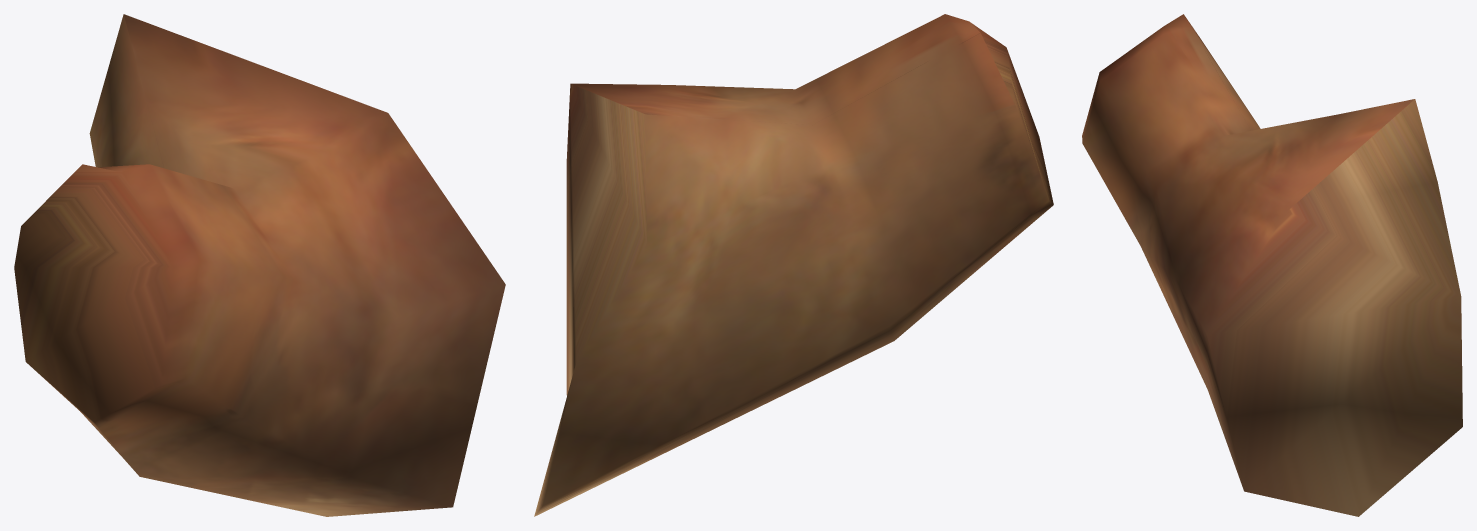
Rendered from thumb_02_l.dae.
3 renders of one model, left to right at view 1: azimuth 30°, elevation 25°; view 2: azimuth 150°, elevation 25°; view 3: azimuth 270°, elevation 25°, orthographic. The views are drawn at different scales.
Visible parts, largest first — view 1: thumb_2_l; view 2: thumb_2_l; view 3: thumb_2_l.
Part boxes in pixels (bbox=[...]): thumb_2_l: bbox=[14, 14, 505, 516]; thumb_2_l: bbox=[534, 14, 1053, 516]; thumb_2_l: bbox=[1082, 14, 1462, 516].
Bounding box in the file's own units: 0.0542 × 0.0501 × 0.0546.
Materials: 1 (1 with a texture image).
